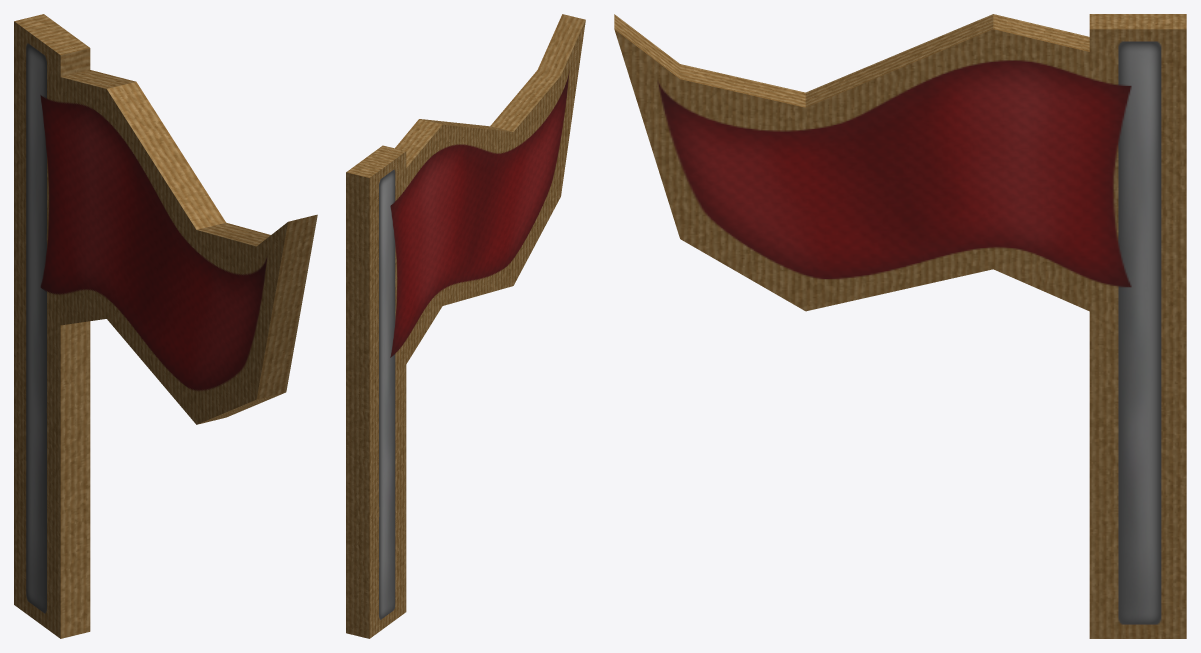
The model's file is Castle_flag.fbx.
3 renders of one model, left to right at view 1: azimuth 30°, elevation 25°; view 2: azimuth 150°, elevation 25°; view 3: azimuth 270°, elevation 25°, orthographic. The views are drawn at different scales.
Parts seen in each view (by area): view 1: Asset_Flag; view 2: Asset_Flag; view 3: Asset_Flag.
Part boxes in pixels (box(x1,y1,x2,y2)): Asset_Flag: box(14, 14, 317, 638); Asset_Flag: box(346, 14, 585, 638); Asset_Flag: box(614, 14, 1186, 638).
Size of the model in its own units: 0.0533 by 1 by 0.8506.
